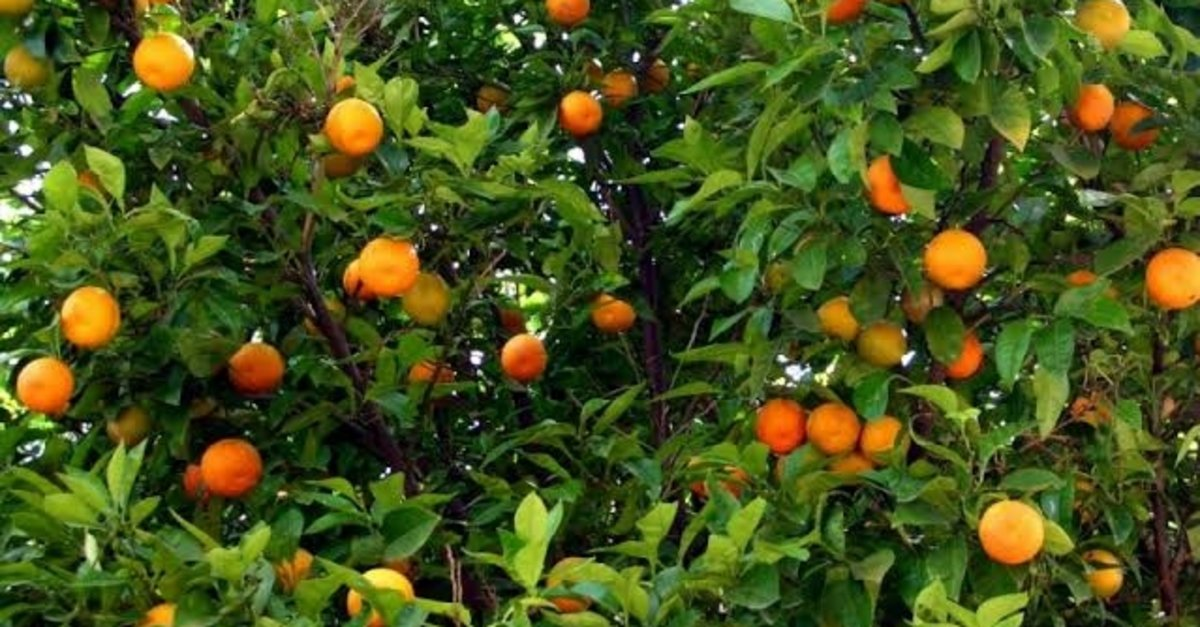portakal: (898, 219, 1025, 284), (956, 497, 1057, 572), (1134, 230, 1200, 331), (39, 273, 131, 341), (124, 27, 208, 94), (317, 94, 397, 159), (11, 353, 85, 421), (219, 333, 295, 398), (203, 437, 285, 497), (487, 327, 562, 385), (745, 380, 805, 449), (557, 90, 604, 141)
